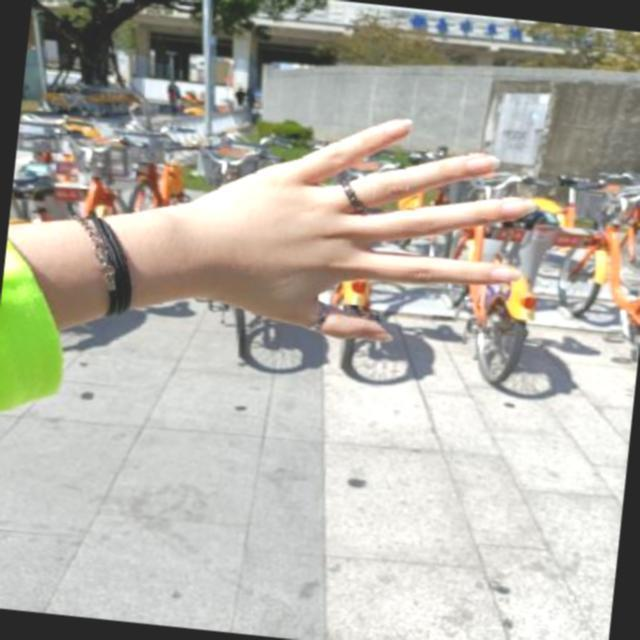hand: (160, 78, 582, 378)
